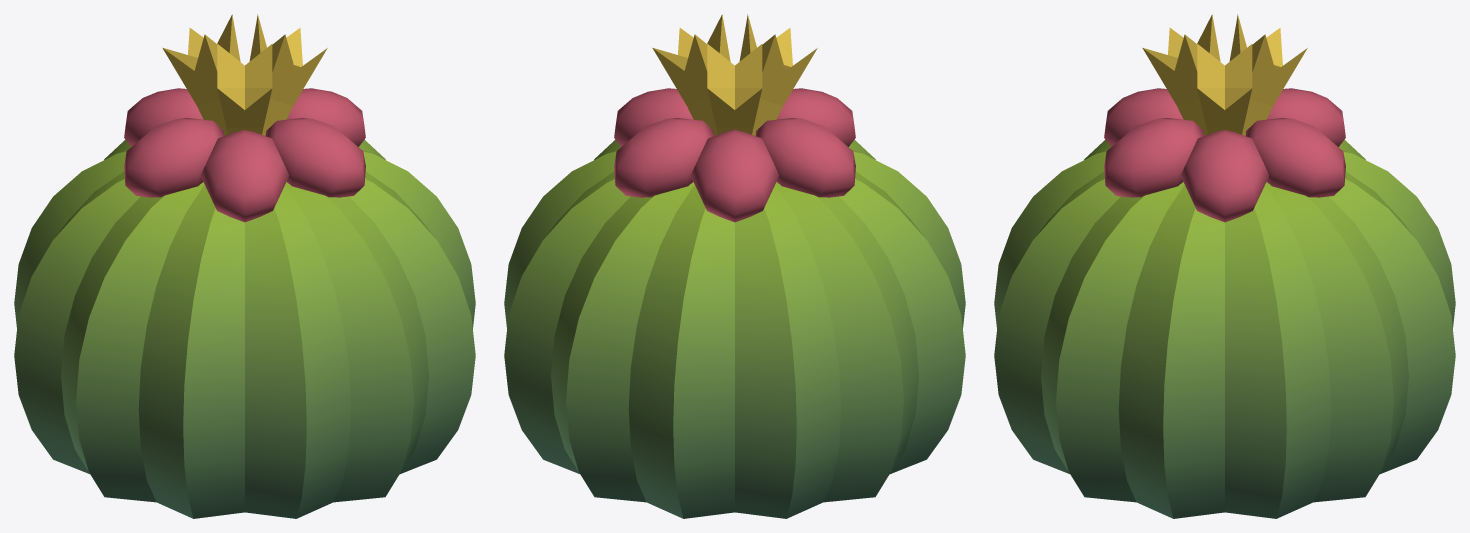
The picture shows the model from 3 angles, left to right: view 1: azimuth 30°, elevation 25°; view 2: azimuth 150°, elevation 25°; view 3: azimuth 270°, elevation 25°; orthographic projection.
Parts seen in each view (by area): view 1: LOD 0_16096745429454471203_4f8908b5be8aa20408ffdc0ad114008d; view 2: LOD 0_16096745429454471203_4f8908b5be8aa20408ffdc0ad114008d; view 3: LOD 0_16096745429454471203_4f8908b5be8aa20408ffdc0ad114008d.
Boxes of the visible parts, box(x1,y1,x2,y2) form: LOD 0_16096745429454471203_4f8908b5be8aa20408ffdc0ad114008d: box(14, 14, 475, 518); LOD 0_16096745429454471203_4f8908b5be8aa20408ffdc0ad114008d: box(504, 14, 965, 518); LOD 0_16096745429454471203_4f8908b5be8aa20408ffdc0ad114008d: box(994, 14, 1455, 518).
Bounding box in the file's own units: 1.05 × 1.02 × 1.05.
